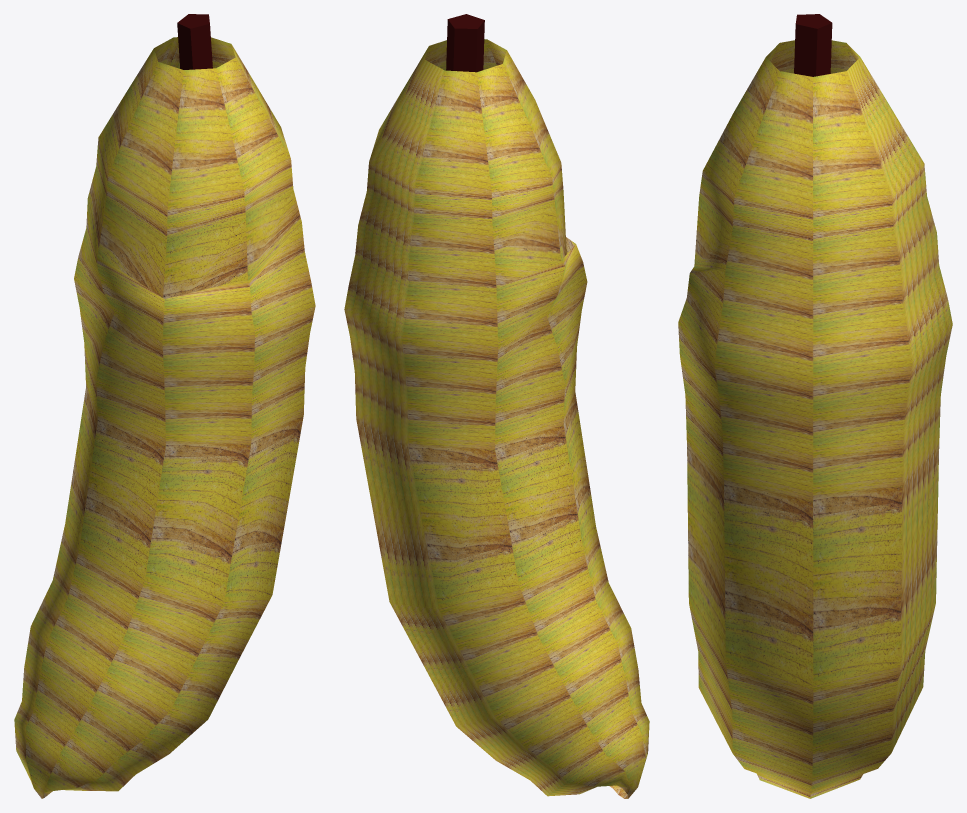
File: banana.fbx
3 views of the same model, side by side, from view 1: azimuth 30°, elevation 25°; view 2: azimuth 150°, elevation 25°; view 3: azimuth 270°, elevation 25° (orthographic). The views are drawn at different scales.
Parts seen in each view (by area): view 1: revolvedSurface1, pCylinder1; view 2: revolvedSurface1, pCylinder1; view 3: revolvedSurface1, pCylinder1.
Part boxes in pixels (x1=…): revolvedSurface1: x1=14, y1=37, x2=315, y2=798; pCylinder1: x1=177, y1=14, x2=212, y2=69; revolvedSurface1: x1=344, y1=39, x2=649, y2=798; pCylinder1: x1=446, y1=14, x2=484, y2=72; revolvedSurface1: x1=678, y1=40, x2=952, y2=798; pCylinder1: x1=794, y1=14, x2=832, y2=76.
Bounding box in the file's own units: 8.57 × 21.5 × 6.47.
Materials: 2 (1 with a texture image).
